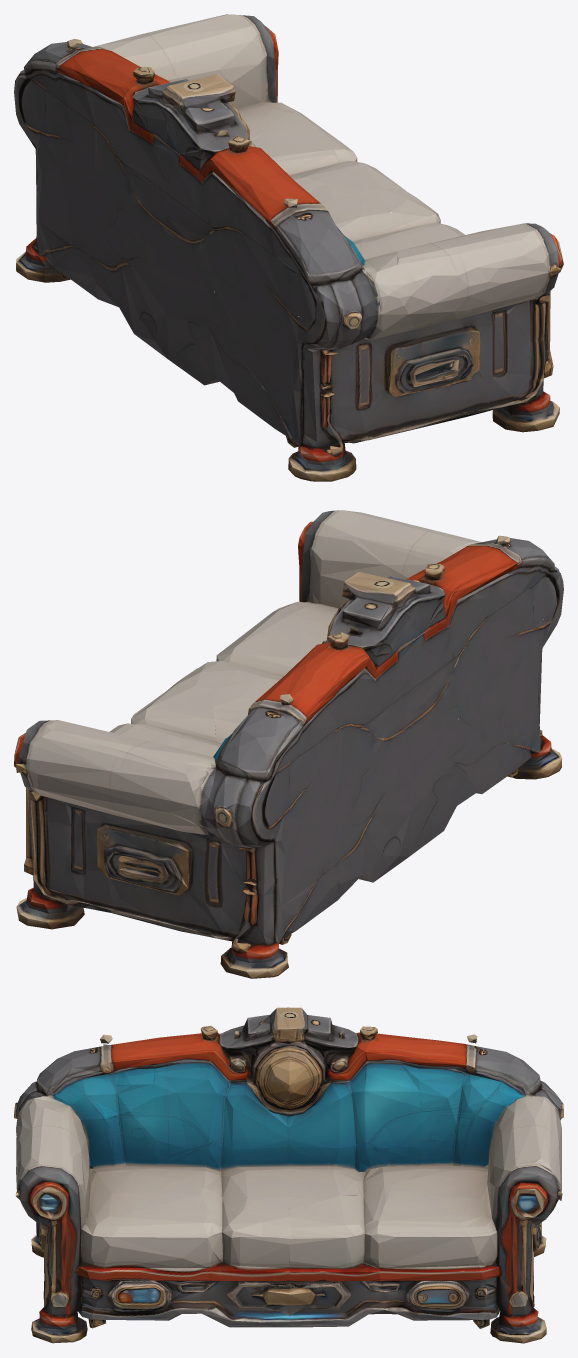
Rendered from 1_couch.glb.
3 renders of one model, top to bottom at view 1: azimuth 30°, elevation 25°; view 2: azimuth 150°, elevation 25°; view 3: azimuth 270°, elevation 25°, orthographic. The views are drawn at different scales.
Parts seen in each view (by area): view 1: tripo_node_944f97a8-4130-4b94-a8bd-4ada5e50ea44; view 2: tripo_node_944f97a8-4130-4b94-a8bd-4ada5e50ea44; view 3: tripo_node_944f97a8-4130-4b94-a8bd-4ada5e50ea44.
Part boxes in pixels (x1=…): tripo_node_944f97a8-4130-4b94-a8bd-4ada5e50ea44: x1=14, y1=14, x2=563, y2=481; tripo_node_944f97a8-4130-4b94-a8bd-4ada5e50ea44: x1=14, y1=510, x2=563, y2=978; tripo_node_944f97a8-4130-4b94-a8bd-4ada5e50ea44: x1=14, y1=1007, x2=563, y2=1343.
Bounding box in the file's own units: 0.4656 × 0.4726 × 0.9982.
Materials: 1 (1 with a texture image).
